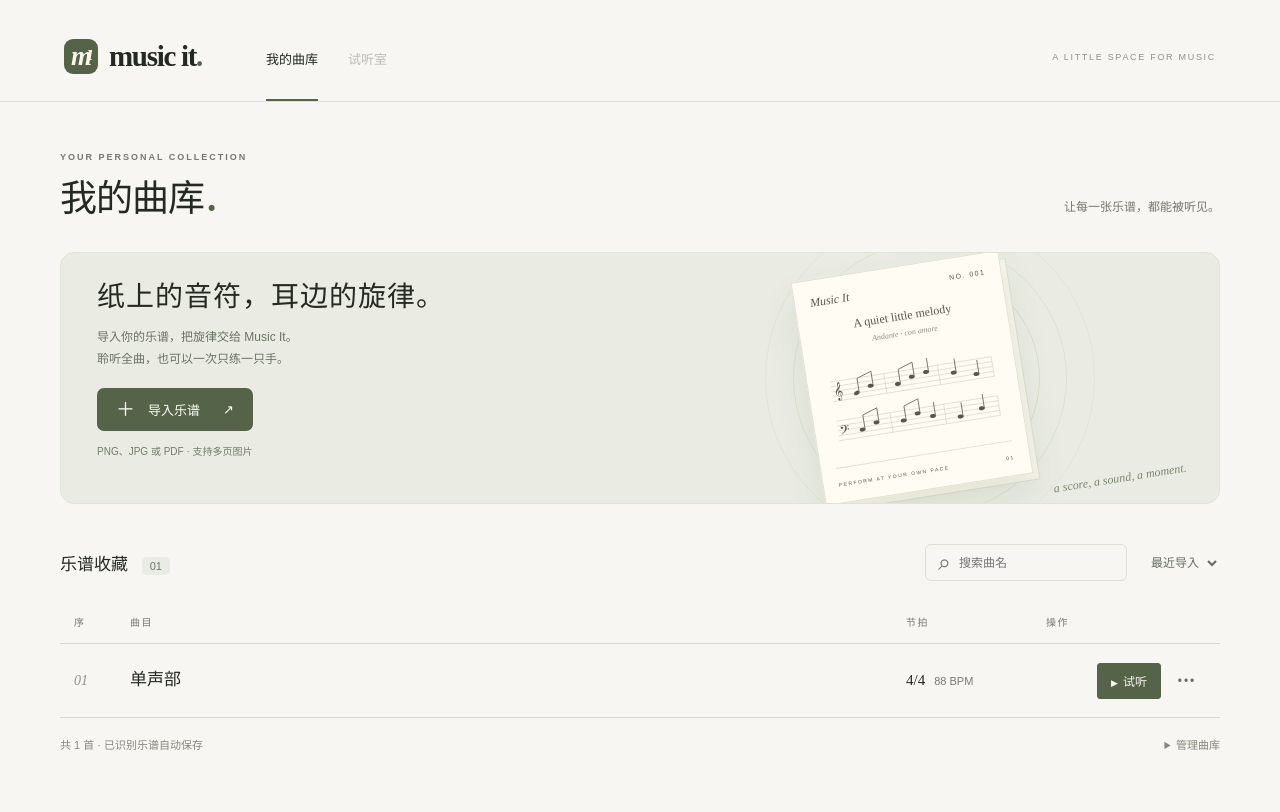
Test: App › shows playback errors and reports an empty selected voice
What coordinates should you click on to do the following:
click the button with test id "catalog-select-first"
I would click on:
 (156, 681)
Its box is [130,661,181,700].
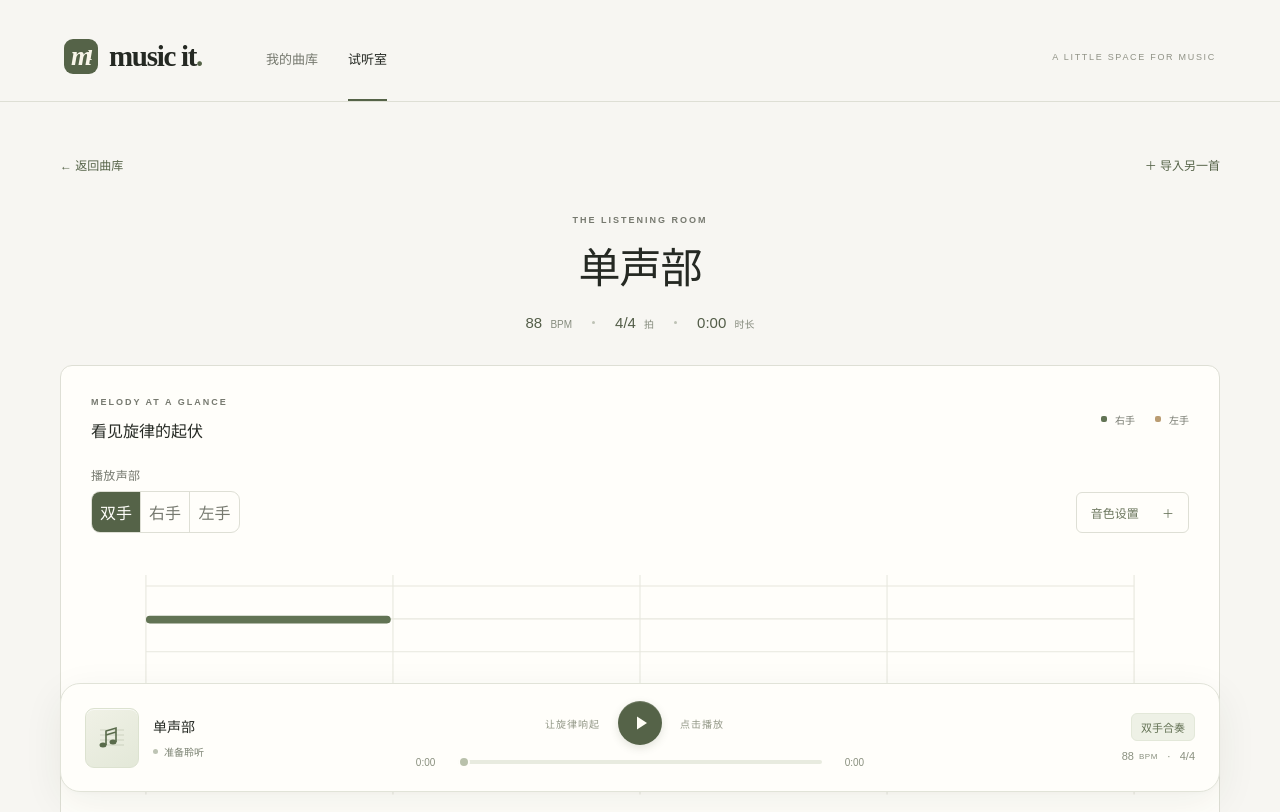
What coordinates should you click on to do the following:
click the button with test id "main-play"
I would click on:
 (640, 723)
Its box is [618,701,662,745].
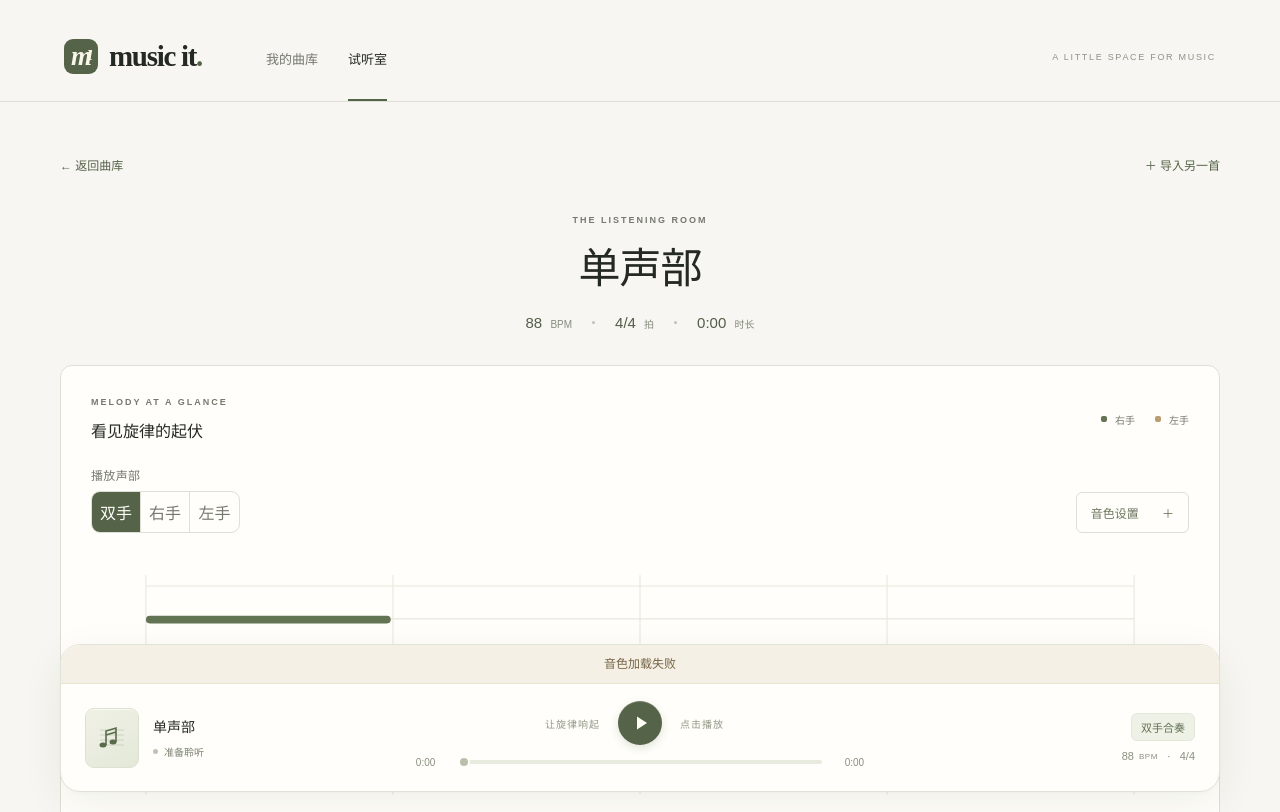
Now the text "音色加载失败" is shown, box [61,645,1219,684]
What coordinates should you click on to do the following:
click the radio button labelled "左手"
I would click on:
 (214, 512)
Its box is [190,492,239,532].
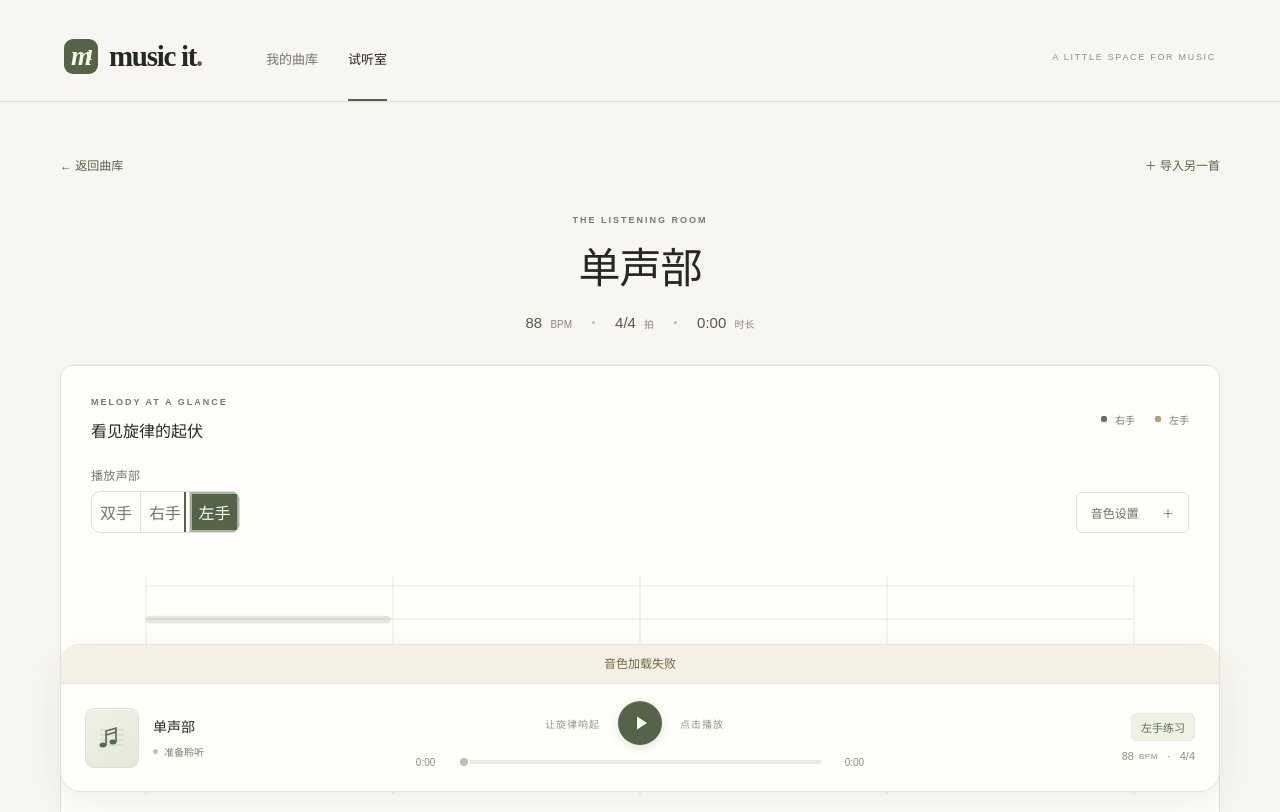
What coordinates should you click on to do the following:
click the button with test id "main-play"
I would click on:
 (640, 723)
Its box is [618,701,662,745].
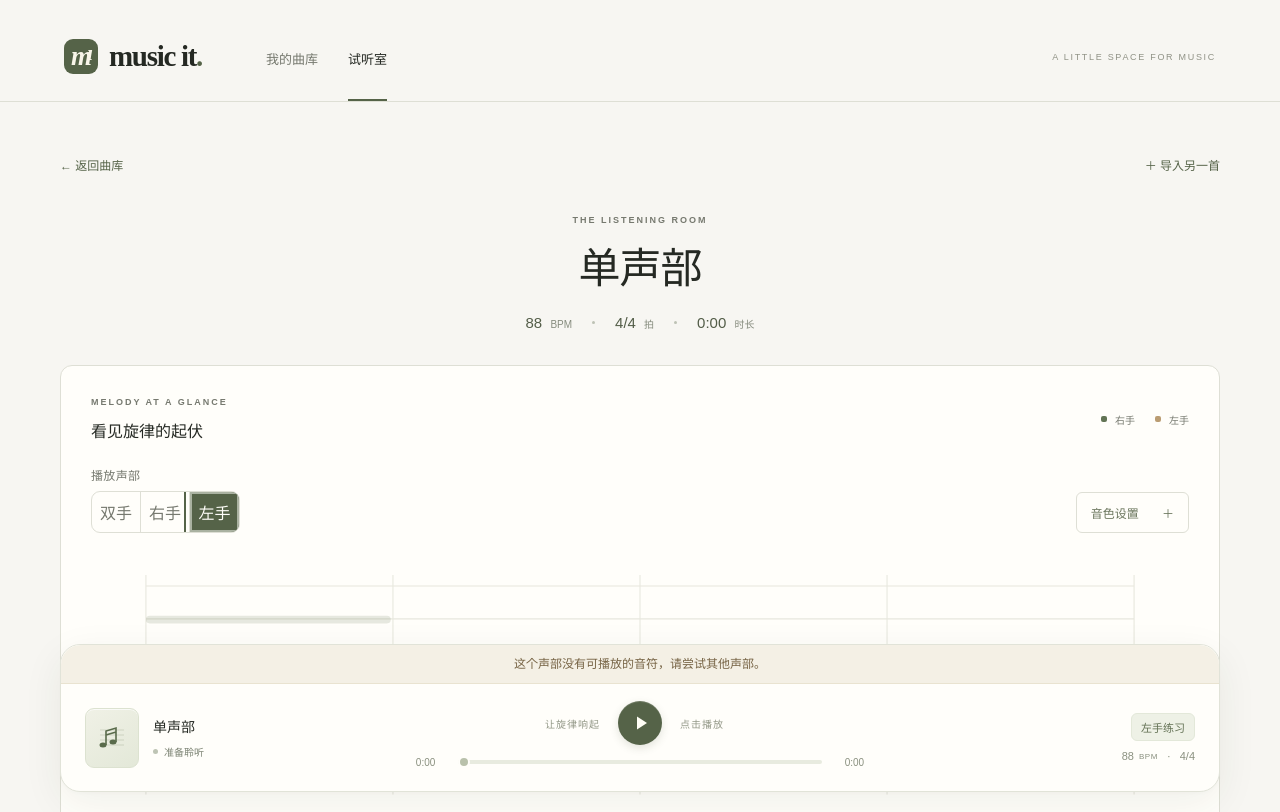
Now the text "这个声部没有可播放的音符" is shown, box [514,657,766,671]
